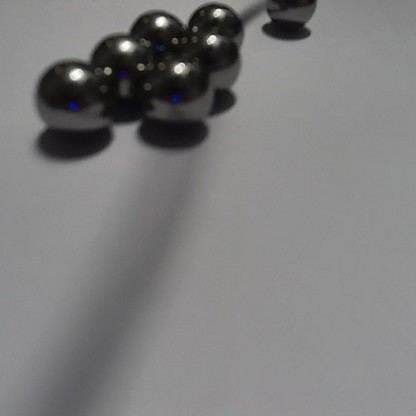ironball: (31, 54, 113, 134), (139, 58, 213, 125), (90, 34, 159, 100), (186, 34, 240, 94), (185, 0, 243, 41), (132, 7, 185, 46), (262, 0, 323, 30)
